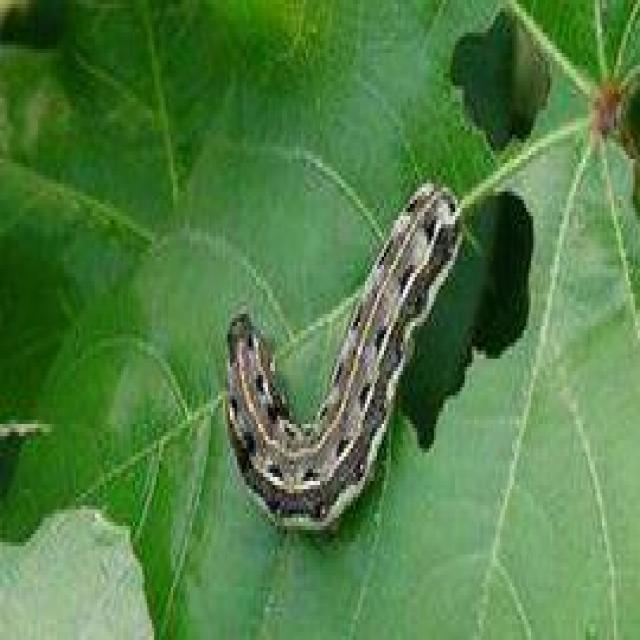BeetArmyWorm-Larva-: (226, 178, 470, 544)
